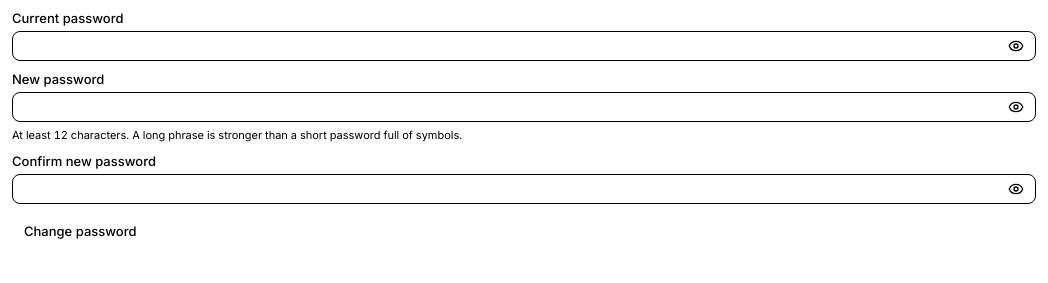
it: PasswordForm › other errors are form-level alerts
Click the button "Change password" at (80, 231), box [12,216,148,246]
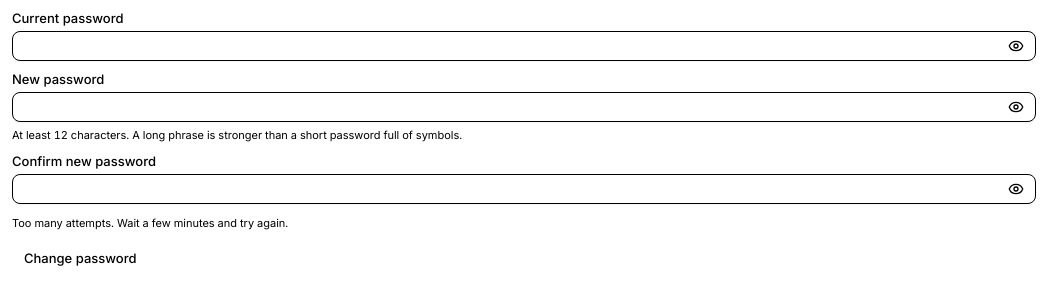
Now the message reads "Too many attempts. Wait a few minutes and try again.", box [12,216,288,230]
